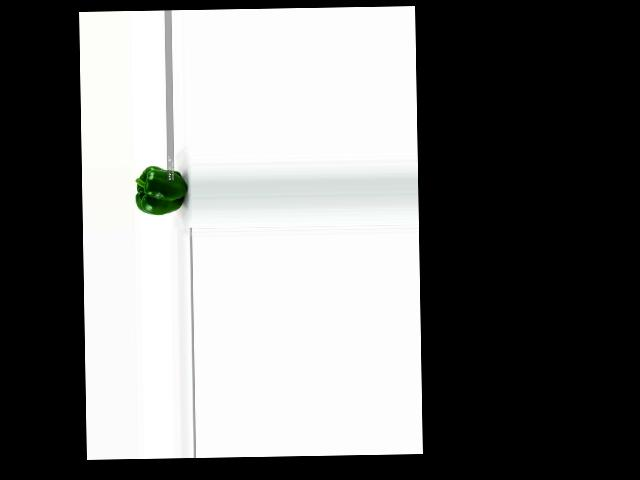bell_pepper: (132, 166, 189, 217)
